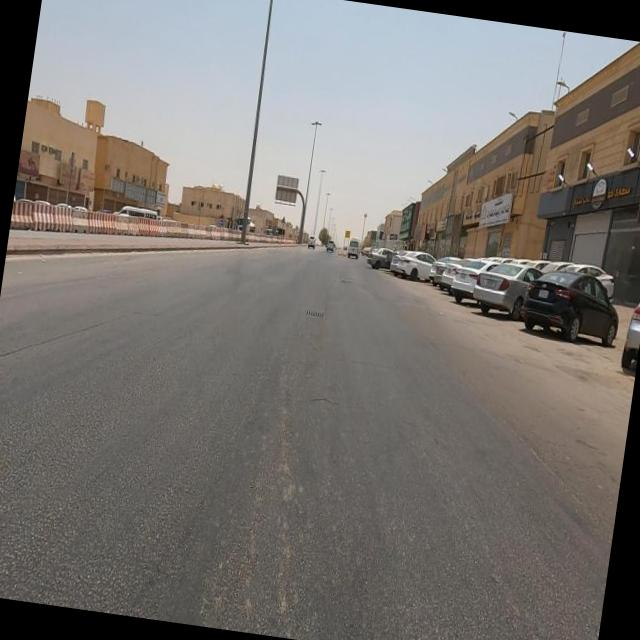debris: (521, 160, 587, 242), (612, 141, 640, 252), (394, 206, 444, 260), (431, 195, 477, 244)
